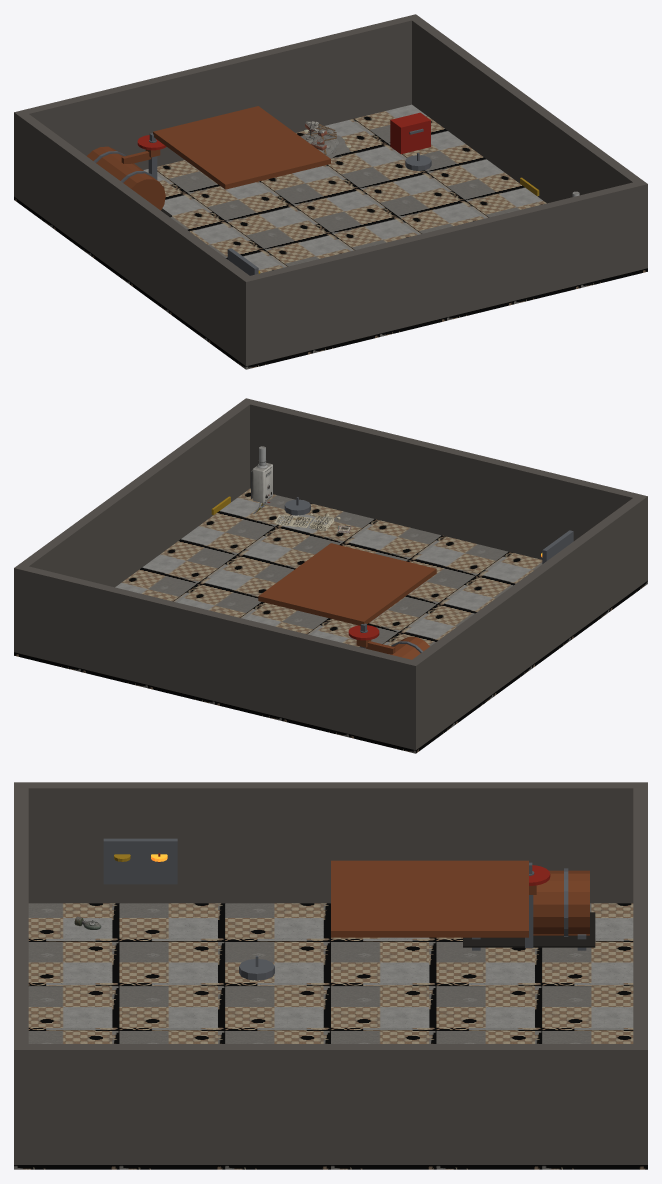
The model's file is room_boiler.glb.
3 renders of one model, top to bottom at view 1: azimuth 30°, elevation 25°; view 2: azimuth 150°, elevation 25°; view 3: azimuth 270°, elevation 25°, orthographic. The views are drawn at different scales.
Visible parts, largest first — view 1: Floor, Wall_S_A, Wall_S_B, Wall_N_B, NoCol_BoilerHeader, Wall_N_A, Wall_W_A, Wall_W_B, Wall_E_B, Plug_S, Wall_E_A, Plug_W (+9 smaller); view 2: Floor, Wall_N_A, Wall_N_B, Wall_S_B, Wall_S_A, NoCol_BoilerHeader, Wall_W_A, Wall_W_B, Wall_E_A, Plug_N, Plug_S, Wall_E_B (+9 smaller); view 3: Floor, Wall_E_A, Wall_E_B, Wall_W_A, Wall_W_B, NoCol_BoilerHeader, Plug_E, Plug_W, GaugeBoard, Wall_N_B, Wall_S_B, BoilerTank (+8 smaller).
Part boxes in pixels (<box>): Floor: <box>14,104,647,369</box>; Wall_S_A: <box>240,240,403,366</box>; Wall_S_B: <box>485,180,647,306</box>; Wall_N_B: <box>259,14,420,132</box>; NoCol_BoilerHeader: <box>153,106,330,189</box>; Wall_N_A: <box>14,74,176,199</box>; Wall_W_A: <box>155,213,249,361</box>; Wall_W_B: <box>19,114,113,262</box>; Wall_E_B: <box>412,18,506,166</box>; Plug_S: <box>403,233,490,327</box>; Wall_E_A: <box>547,117,641,202</box>; Plug_W: <box>105,189,155,299</box>; Floor: <box>14,488,647,753</box>; Wall_N_A: <box>258,624,421,750</box>; Wall_N_B: <box>14,564,176,690</box>; Wall_S_B: <box>241,398,402,524</box>; Wall_S_A: <box>485,458,647,583</box>; NoCol_BoilerHeader: <box>258,543,436,625</box>; Wall_W_A: <box>548,498,642,646</box>; Wall_W_B: <box>412,597,506,745</box>; Wall_E_A: <box>155,402,249,550</box>; Plug_N: <box>171,617,258,711</box>; Plug_S: <box>398,451,484,545</box>; Wall_E_B: <box>20,501,114,586</box>; Floor: <box>14,903,647,1169</box>; Wall_E_A: <box>28,1044,262,1164</box>; Wall_E_B: <box>399,1044,633,1164</box>; Wall_W_A: <box>28,782,262,903</box>; Wall_W_B: <box>399,782,633,903</box>; NoCol_BoilerHeader: <box>331,860,528,937</box>; Plug_E: <box>262,1064,399,1164</box>; Plug_W: <box>262,802,399,903</box>; GaugeBoard: <box>103,838,177,884</box>; Wall_N_B: <box>633,945,647,1164</box>; Wall_S_B: <box>14,945,28,1164</box>; BoilerTank: <box>533,870,589,935</box>.
Bounding box in the file's own units: 12 × 2.5 × 12.
Materials: 15 (5 with a texture image).
